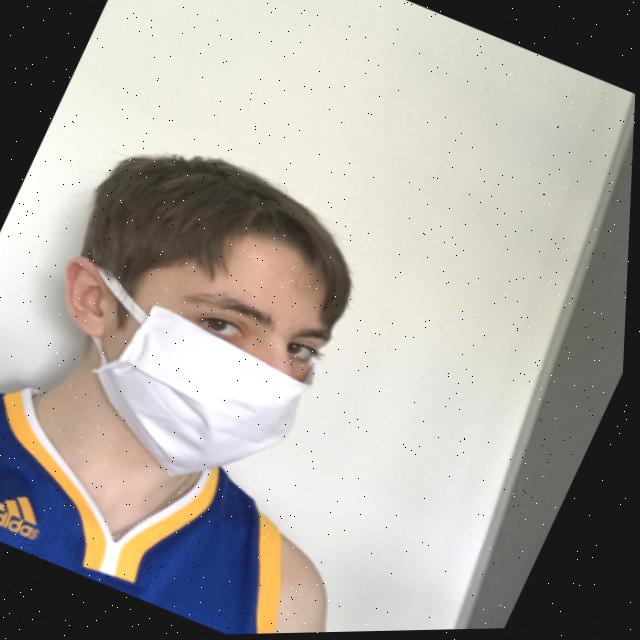Mask: (10, 254, 335, 514)
